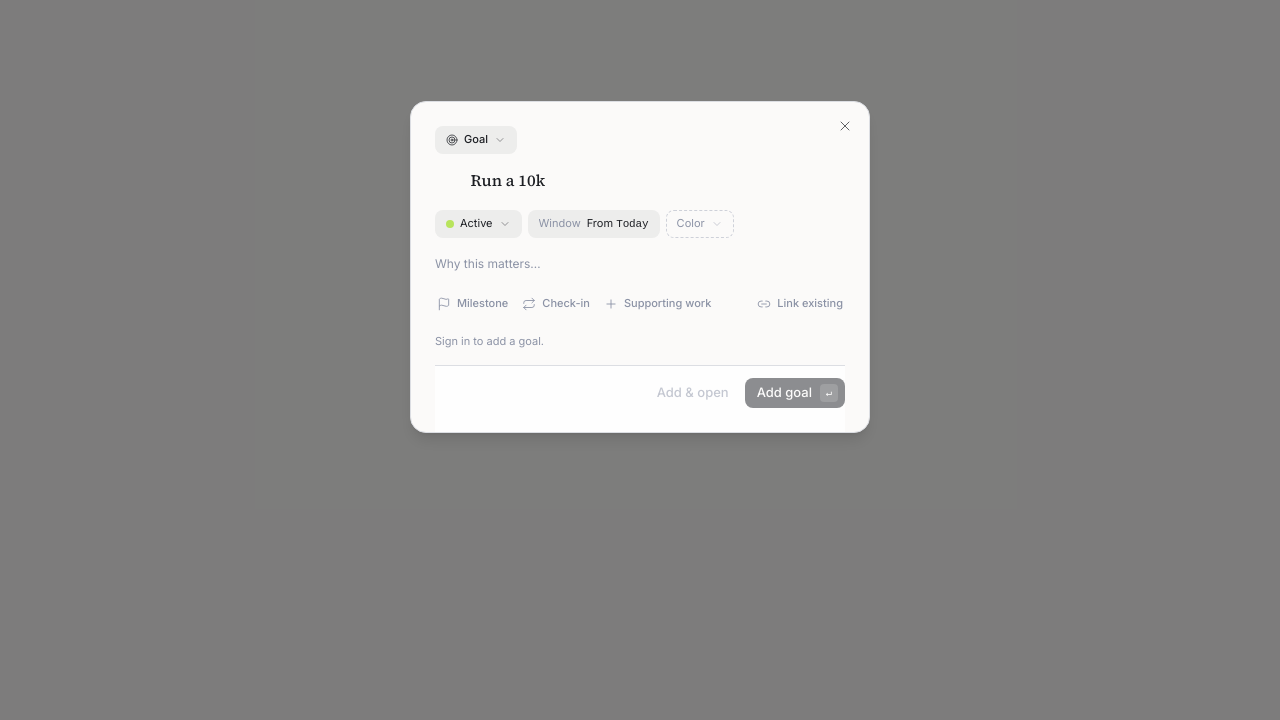
Test: the create modal previews the DRAFT › shows a goal no chart until it has something to place
This screenshot has width=1280, height=720.
Click the button with test id "goal-dialog-adder-checkin".
click(556, 304)  # box [516,290,596,318]
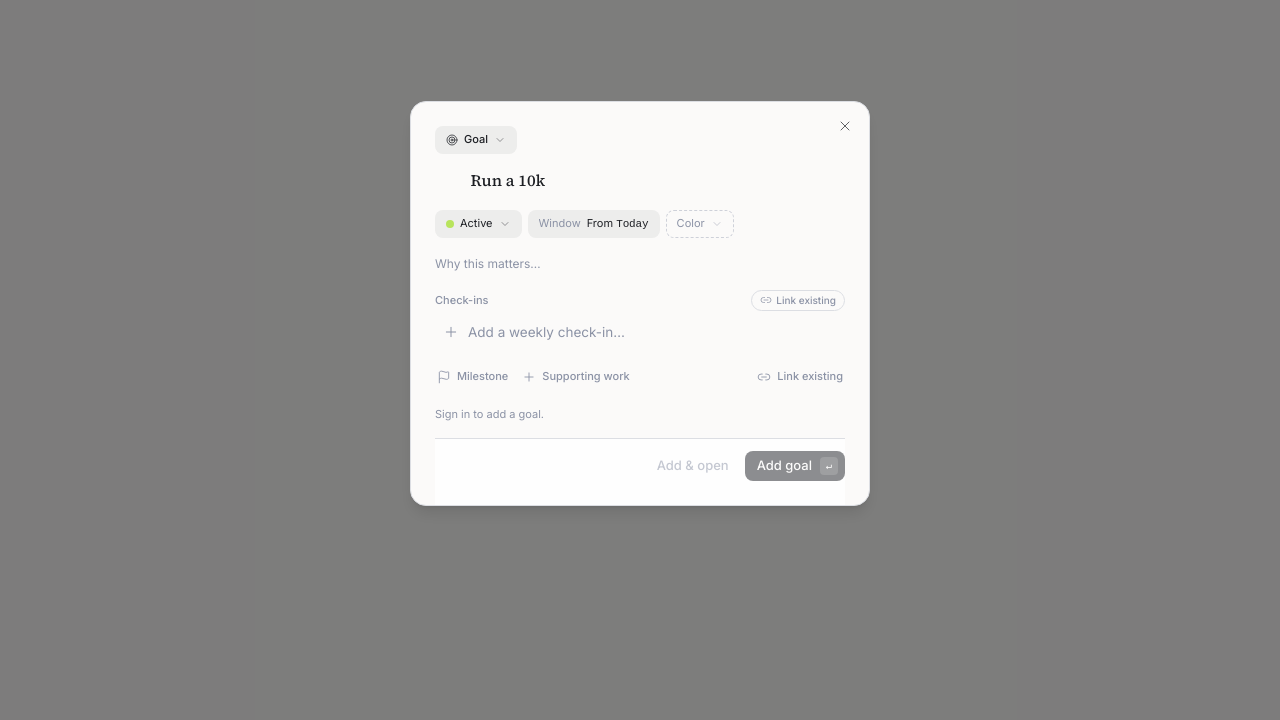
Type "Weekly review" into the field with test id "goal-dialog-create-checkin-new-name".
click(652, 332); type("Weekly review")  # box [464,322,841,342]
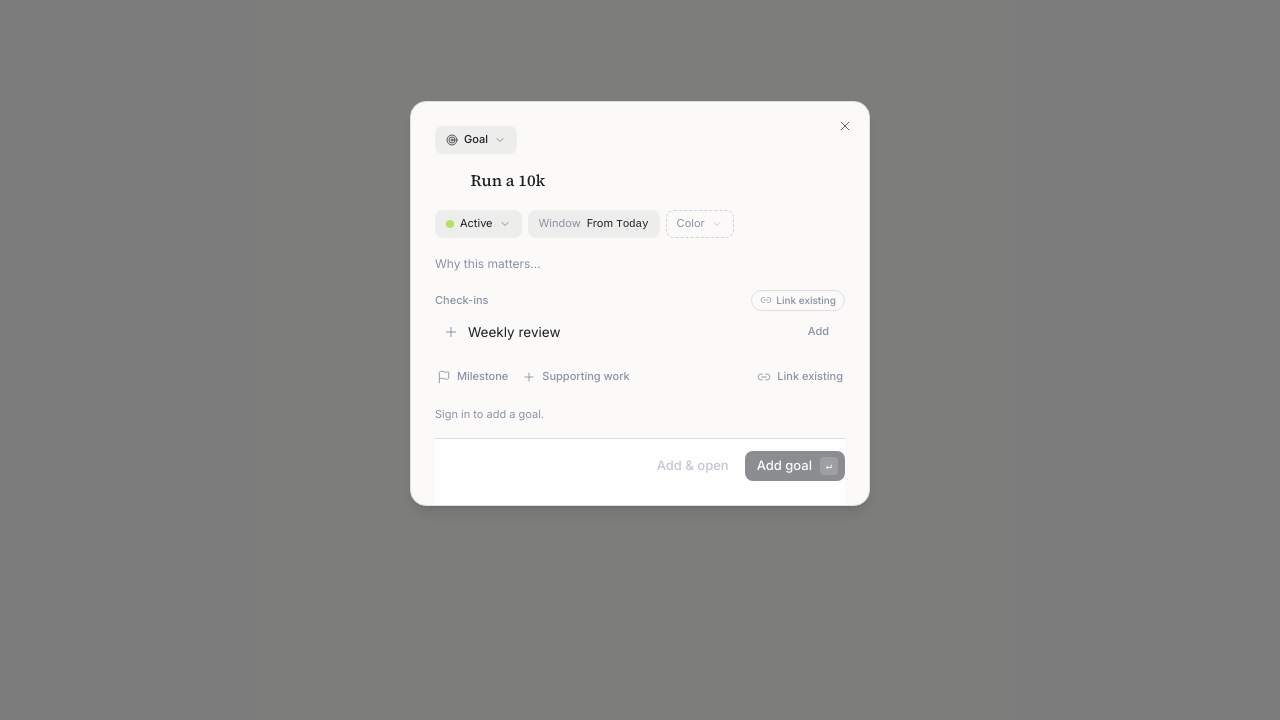
Press Enter in the field with test id "goal-dialog-create-checkin-new-name", box [464,322,795,342]
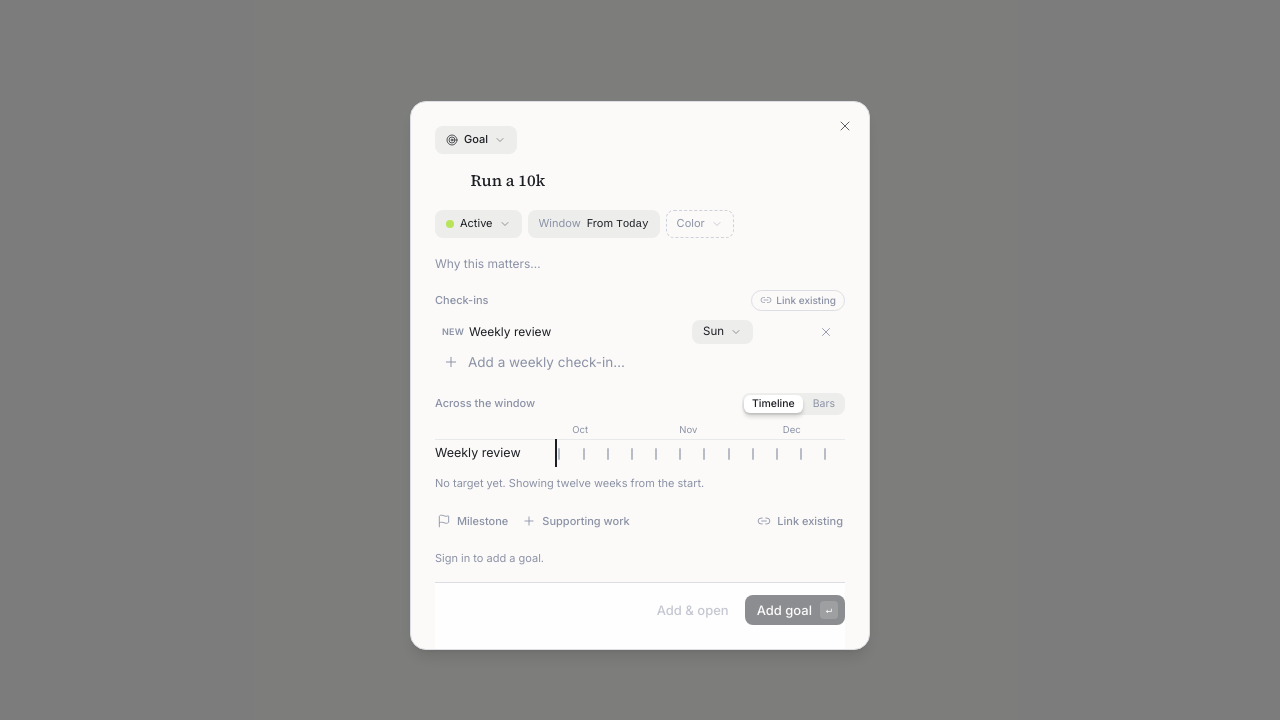
Now the element with test id "goal-dialog-schedule" is shown, box [435,393,845,491]
Now the button with test id "goal-dialog-create-checkin-when" reads "Sun", box [692,320,753,344]
